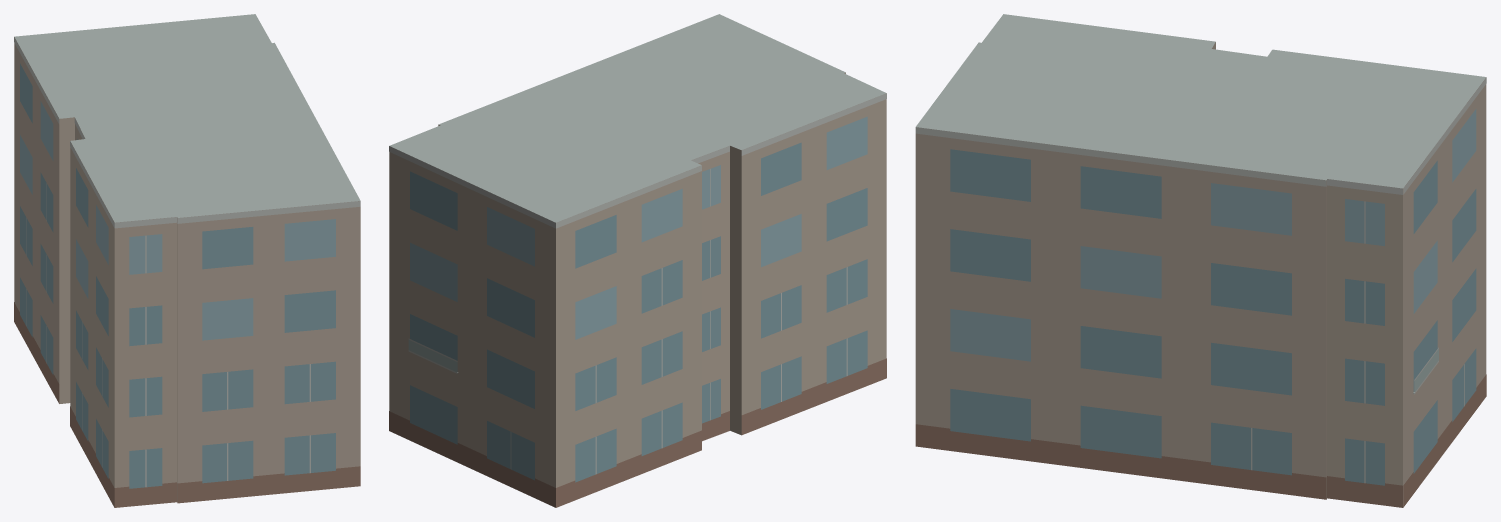
File: survey-upis-32636825.glb
3 renders of one model, left to right at view 1: azimuth 30°, elevation 25°; view 2: azimuth 150°, elevation 25°; view 3: azimuth 270°, elevation 25°, orthographic. The views are drawn at different scales.
Parts seen in each view (by area): view 1: survey-upis-32636825.tmp; view 2: survey-upis-32636825.tmp; view 3: survey-upis-32636825.tmp.
Boxes of the visible parts, x1,y1,x2,y2 form: survey-upis-32636825.tmp: (14,14,360,507); survey-upis-32636825.tmp: (389,14,886,507); survey-upis-32636825.tmp: (915,14,1486,507).
Size of the model in its own units: 13.95 by 11.9 by 19.29.
